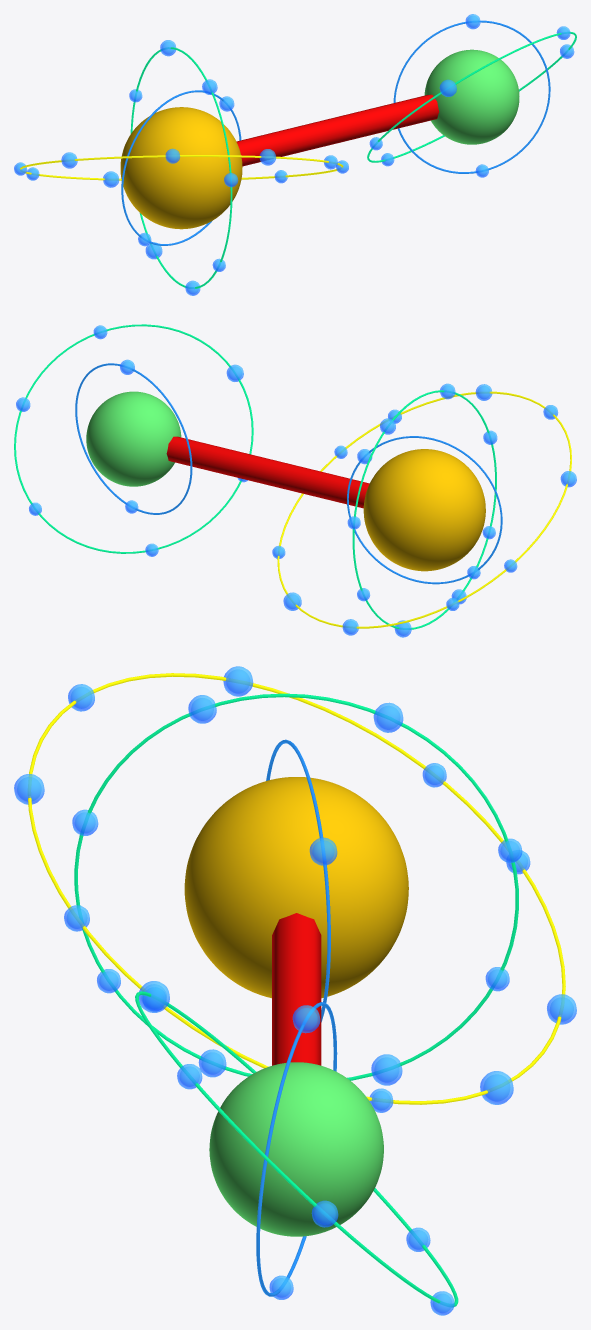
Rendered from CaO_.glb.
The picture shows the model from 3 angles, top to bottom: view 1: azimuth 30°, elevation 25°; view 2: azimuth 150°, elevation 25°; view 3: azimuth 270°, elevation 25°; orthographic projection. The views are drawn at different scales.
Visible parts, largest first — view 1: Ca, O, object 64, object 24, object 46, object 7, object 51, object 2; view 2: Ca, O, object 64, object 24, object 51, object 7, object 2, object 46; view 3: Ca, O, object 64, object 24, object 7, object 51, object 46, object 2, object 26.
Boxes of the visible parts, left/top/right/bottom form: Ca: left=120, top=107, right=242, bottom=229; O: left=424, top=49, right=519, bottom=144; object 64: left=236, top=94, right=439, bottom=166; object 24: left=20, top=155, right=343, bottom=180; object 46: left=393, top=20, right=550, bottom=173; object 7: left=130, top=47, right=232, bottom=288; object 51: left=367, top=32, right=576, bottom=162; object 2: left=121, top=90, right=241, bottom=245; Ca: left=363, top=449, right=485, bottom=571; O: left=86, top=391, right=181, bottom=486; object 64: left=166, top=436, right=369, bottom=508; object 24: left=277, top=391, right=571, bottom=628; object 51: left=14, top=324, right=253, bottom=553; object 7: left=352, top=390, right=496, bottom=629; object 2: left=347, top=436, right=502, bottom=584; object 46: left=75, top=363, right=192, bottom=514; Ca: left=184, top=777, right=408, bottom=998; O: left=209, top=1062, right=383, bottom=1236; object 64: left=272, top=913, right=321, bottom=1065; object 24: left=28, top=673, right=565, bottom=1104; object 7: left=74, top=693, right=518, bottom=1080; object 51: left=135, top=991, right=458, bottom=1307; object 46: left=256, top=1002, right=337, bottom=1296; object 2: left=266, top=739, right=330, bottom=1022; object 26: left=480, top=1071, right=513, bottom=1104.
Bounding box in the file's own units: 9.22 × 3.62 × 4.57.
